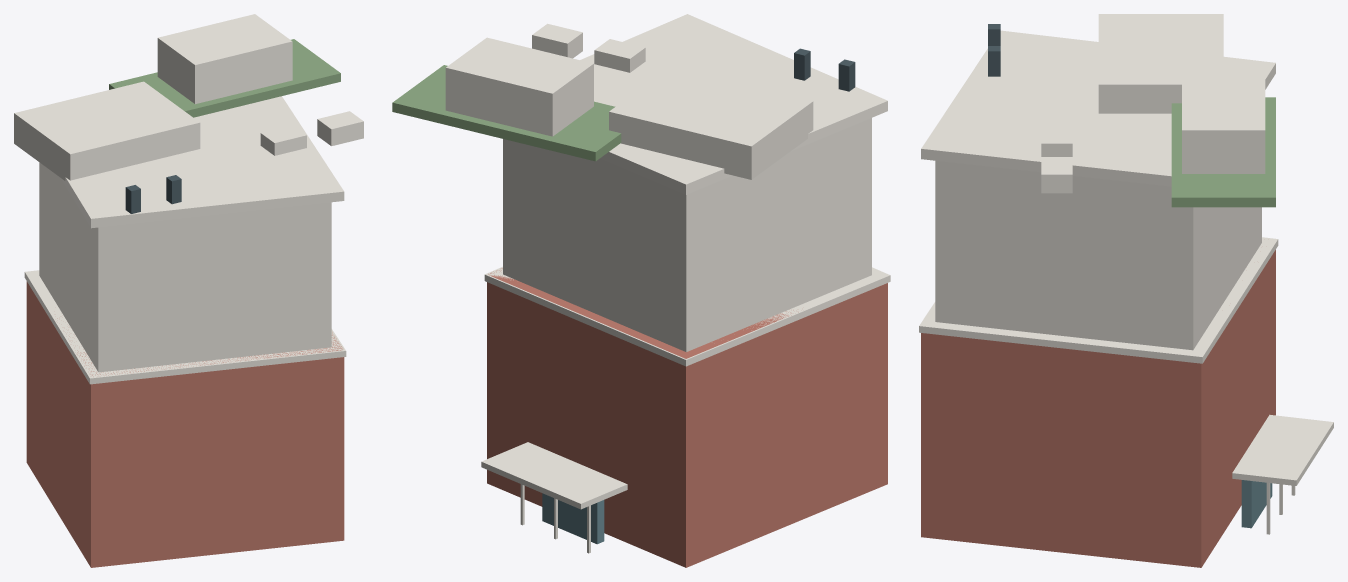
The model's file is house_of_innovation.glb.
3 renders of one model, left to right at view 1: azimuth 30°, elevation 25°; view 2: azimuth 150°, elevation 25°; view 3: azimuth 270°, elevation 25°, orthographic. The views are drawn at different scales.
Visible parts, largest first — view 1: House of Innovation_base, House of Innovation_upper, House of Innovation_parapet, House of Innovation_roof_plant, House of Innovation_pavilion, House of Innovation_band, House of Innovation_garden, House of Innovation_ac_1, House of Innovation_ac_0; view 2: House of Innovation_base, House of Innovation_upper, House of Innovation_parapet, House of Innovation_roof_plant, House of Innovation_pavilion, House of Innovation_garden, House of Innovation_canopy, House of Innovation_band, House of Innovation_door, House of Innovation_ac_1, House of Innovation_ac_0; view 3: House of Innovation_base, House of Innovation_upper, House of Innovation_parapet, House of Innovation_roof_plant, House of Innovation_pavilion, House of Innovation_band, House of Innovation_garden, House of Innovation_canopy, House of Innovation_ac_1, House of Innovation_door, House of Innovation_ac_0.
Boxes of the visible parts, <box> form: House of Innovation_base: <box>26,281,344,567</box>; House of Innovation_upper: <box>39,162,331,372</box>; House of Innovation_parapet: <box>60,96,344,228</box>; House of Innovation_roof_plant: <box>14,81,200,180</box>; House of Innovation_pavilion: <box>157,14,292,104</box>; House of Innovation_band: <box>24,270,346,384</box>; House of Innovation_garden: <box>109,39,340,117</box>; House of Innovation_ac_1: <box>317,111,363,146</box>; House of Innovation_ac_0: <box>260,125,306,155</box>; House of Innovation_base: <box>487,268,887,567</box>; House of Innovation_upper: <box>503,118,871,352</box>; House of Innovation_parapet: <box>580,14,887,194</box>; House of Innovation_roof_plant: <box>609,66,813,179</box>; House of Innovation_pavilion: <box>445,37,593,136</box>; House of Innovation_garden: <box>392,65,621,161</box>; House of Innovation_canopy: <box>481,442,627,509</box>; House of Innovation_band: <box>484,266,890,366</box>; House of Innovation_door: <box>542,493,604,544</box>; House of Innovation_ac_1: <box>532,23,582,58</box>; House of Innovation_ac_0: <box>594,39,645,72</box>; House of Innovation_base: <box>921,250,1275,567</box>; House of Innovation_upper: <box>935,160,1261,350</box>; House of Innovation_parapet: <box>921,30,1275,186</box>; House of Innovation_roof_plant: <box>1098,14,1223,113</box>; House of Innovation_pavilion: <box>1182,77,1265,173</box>; House of Innovation_band: <box>919,237,1278,363</box>; House of Innovation_garden: <box>1171,97,1275,207</box>; House of Innovation_canopy: <box>1232,414,1333,485</box>; House of Innovation_ac_1: <box>1041,157,1072,193</box>; House of Innovation_door: <box>1241,480,1272,528</box>; House of Innovation_ac_0: <box>1041,126,1072,156</box>.
Size of the model in its own units: 20.26 by 23.4 by 19.9.
